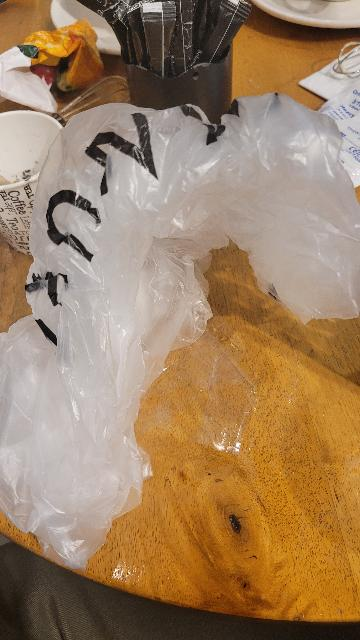Plastik: (0, 111, 360, 578)
